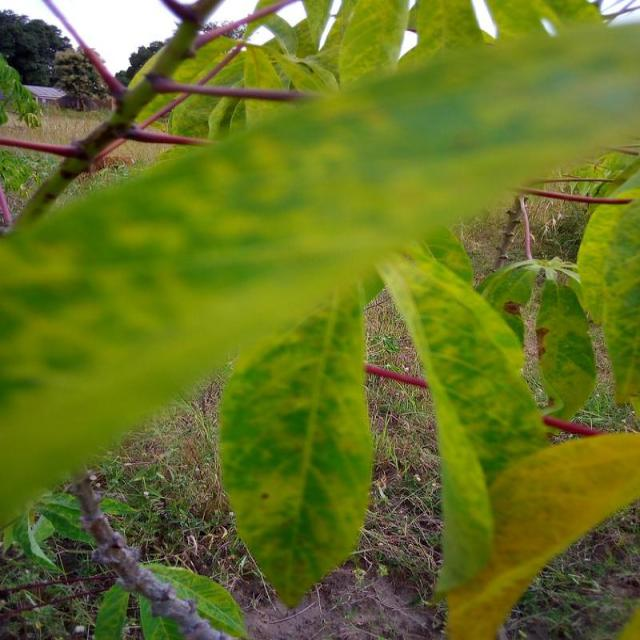cassava leaf: (376, 230, 550, 600), (216, 286, 374, 608), (575, 158, 639, 406)
